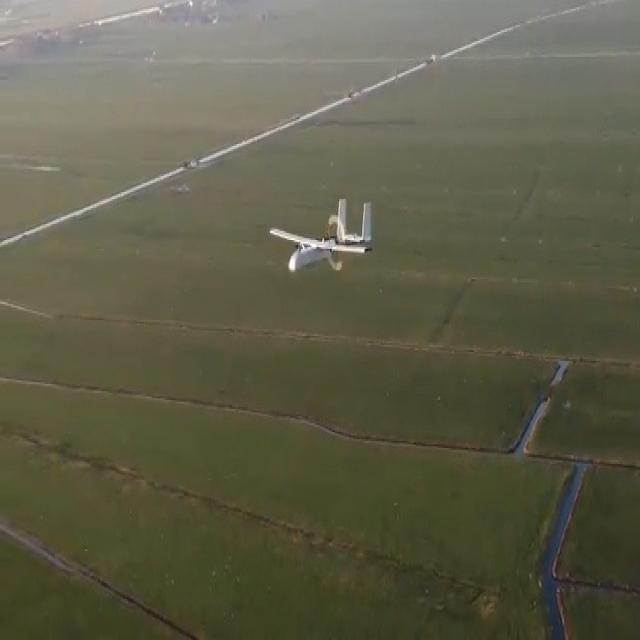iha: (299, 212, 342, 263)
